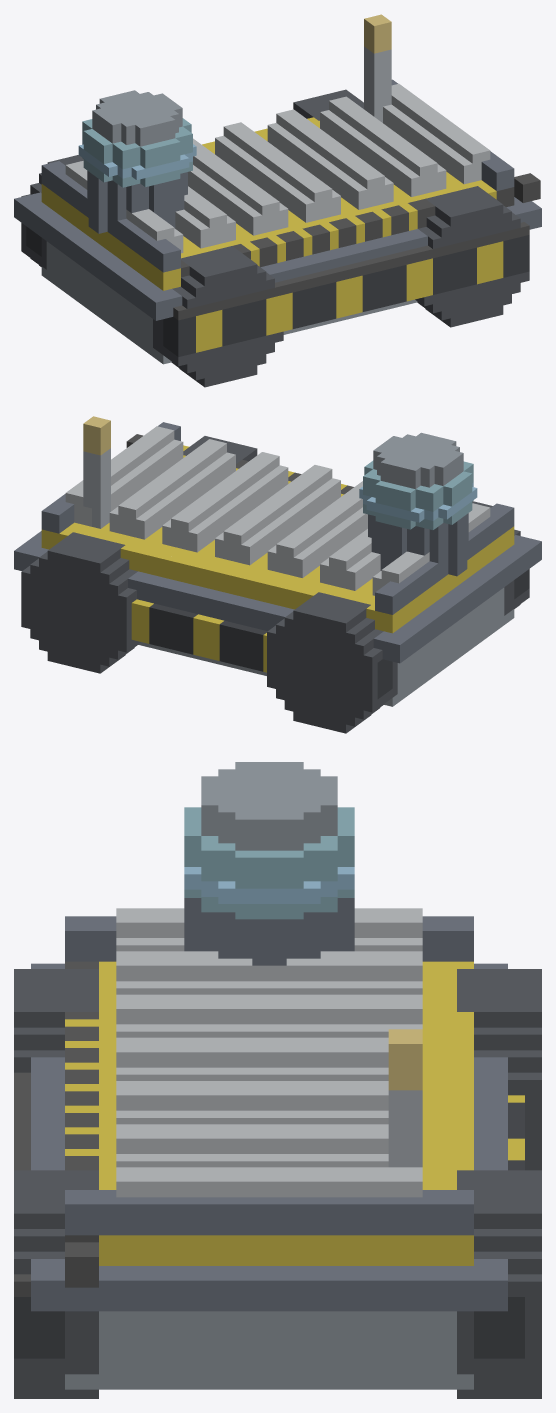
Rendered from agv.glb.
3 views of the same model, one above another, from view 1: azimuth 30°, elevation 25°; view 2: azimuth 150°, elevation 25°; view 3: azimuth 270°, elevation 25° (orthographic). The views are drawn at different scales.
Visible parts, largest first — view 1: agv; view 2: agv; view 3: agv.
Boxes of the visible parts, x1,y1,x2,y2 form: agv: (14, 14, 541, 387); agv: (14, 416, 541, 733); agv: (14, 762, 541, 1398).
Size of the model in its own units: 1.41 by 0.75 by 0.9688.
